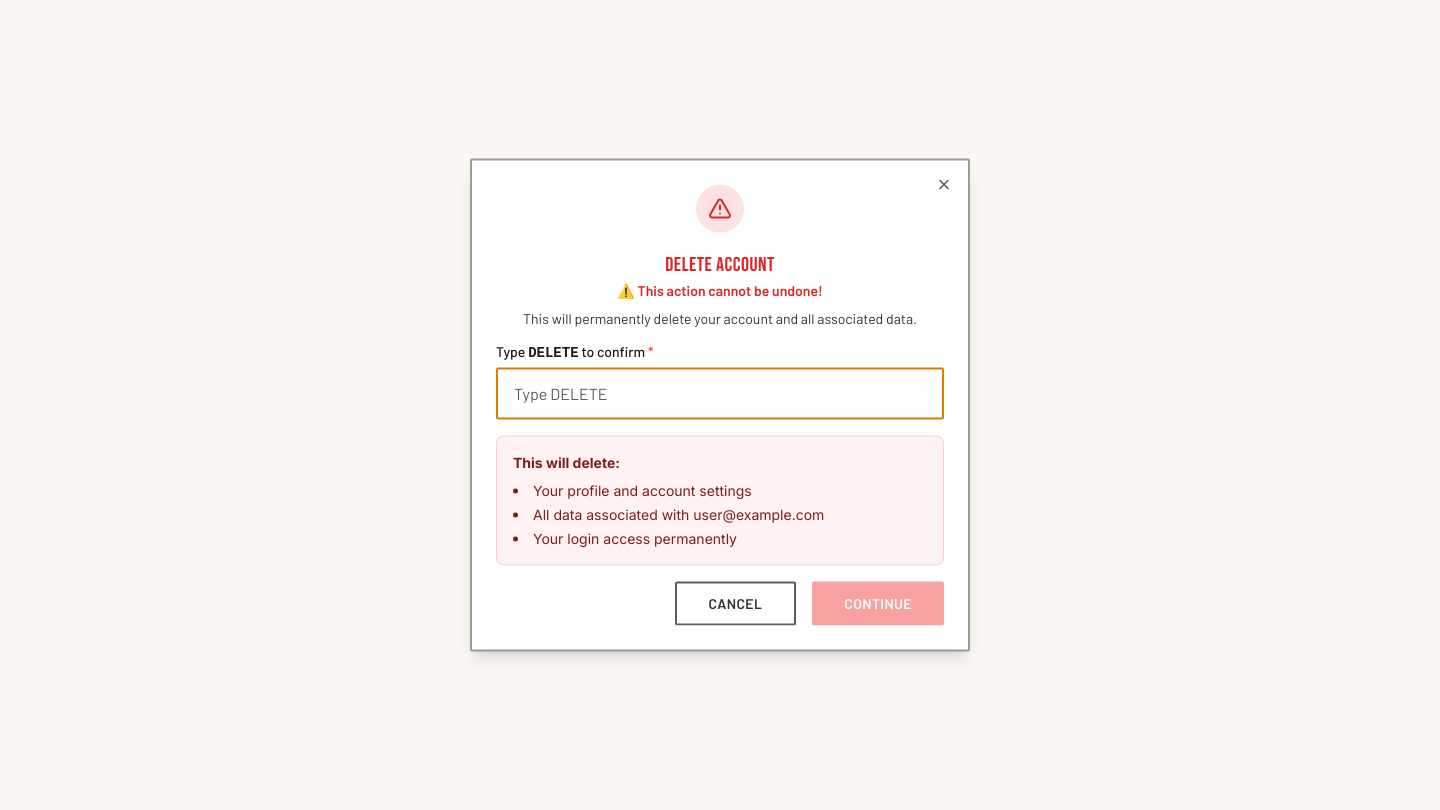
it: DeleteAccountModal › Accessibility › should show validation error with proper ARIA attributes
Type "wrong" into the field labelled "Type DELETE to confirm *".
click(720, 394); type("wrong")  # box [496,368,944,420]
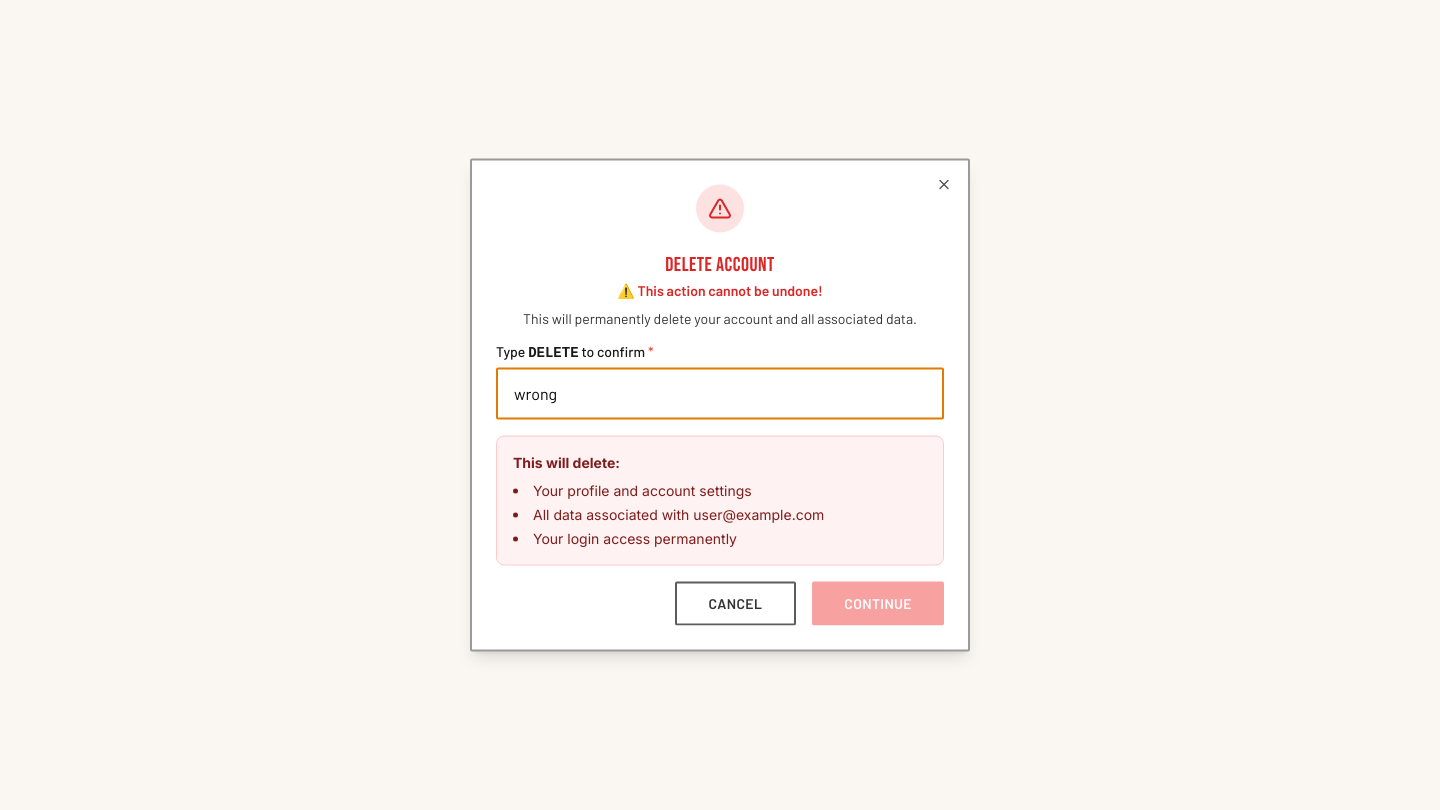
Submit the form named "Type DELETE to confirm", box [496,184,944,626]
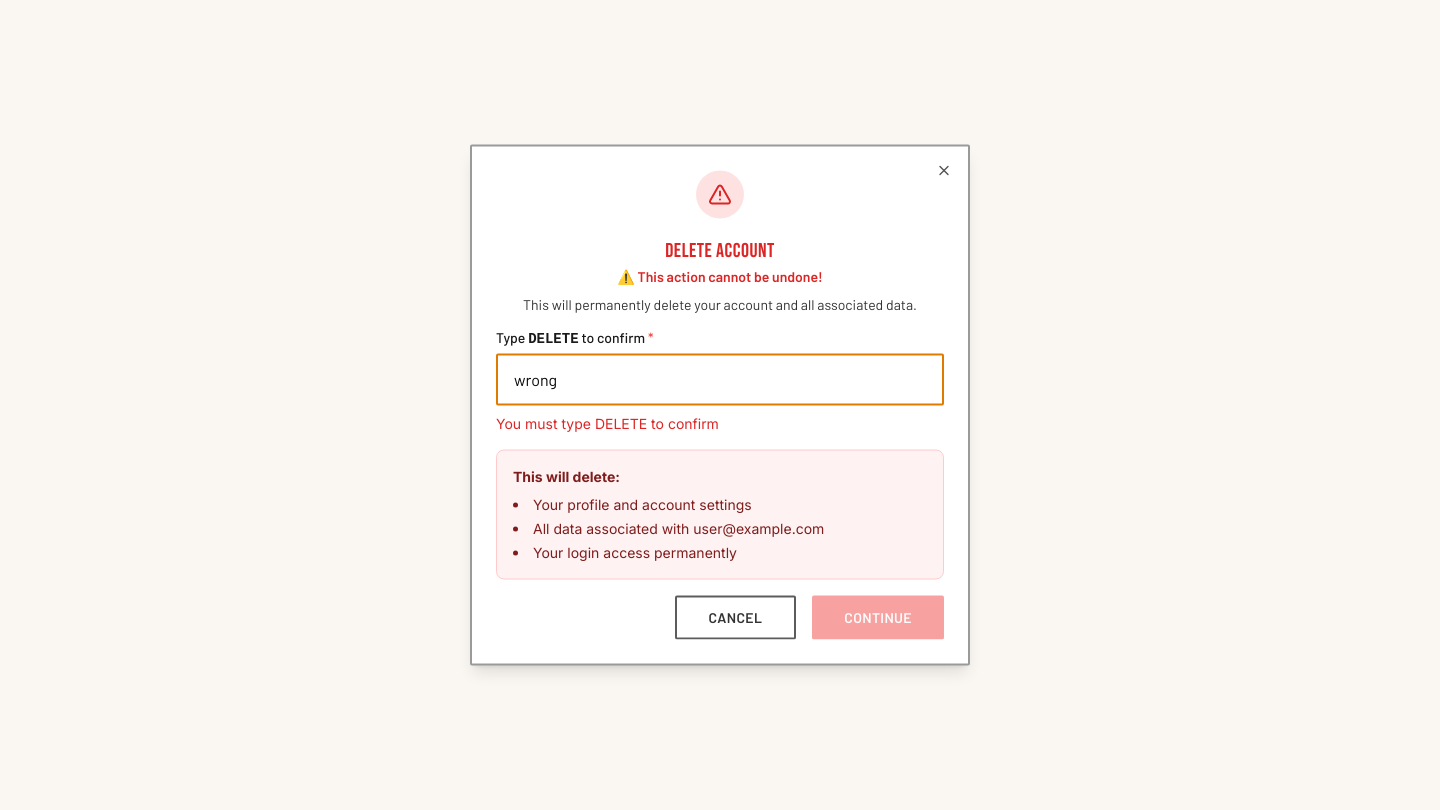
Expected: the text "You must type DELETE to confirm" is shown, [496,414,719,432]
